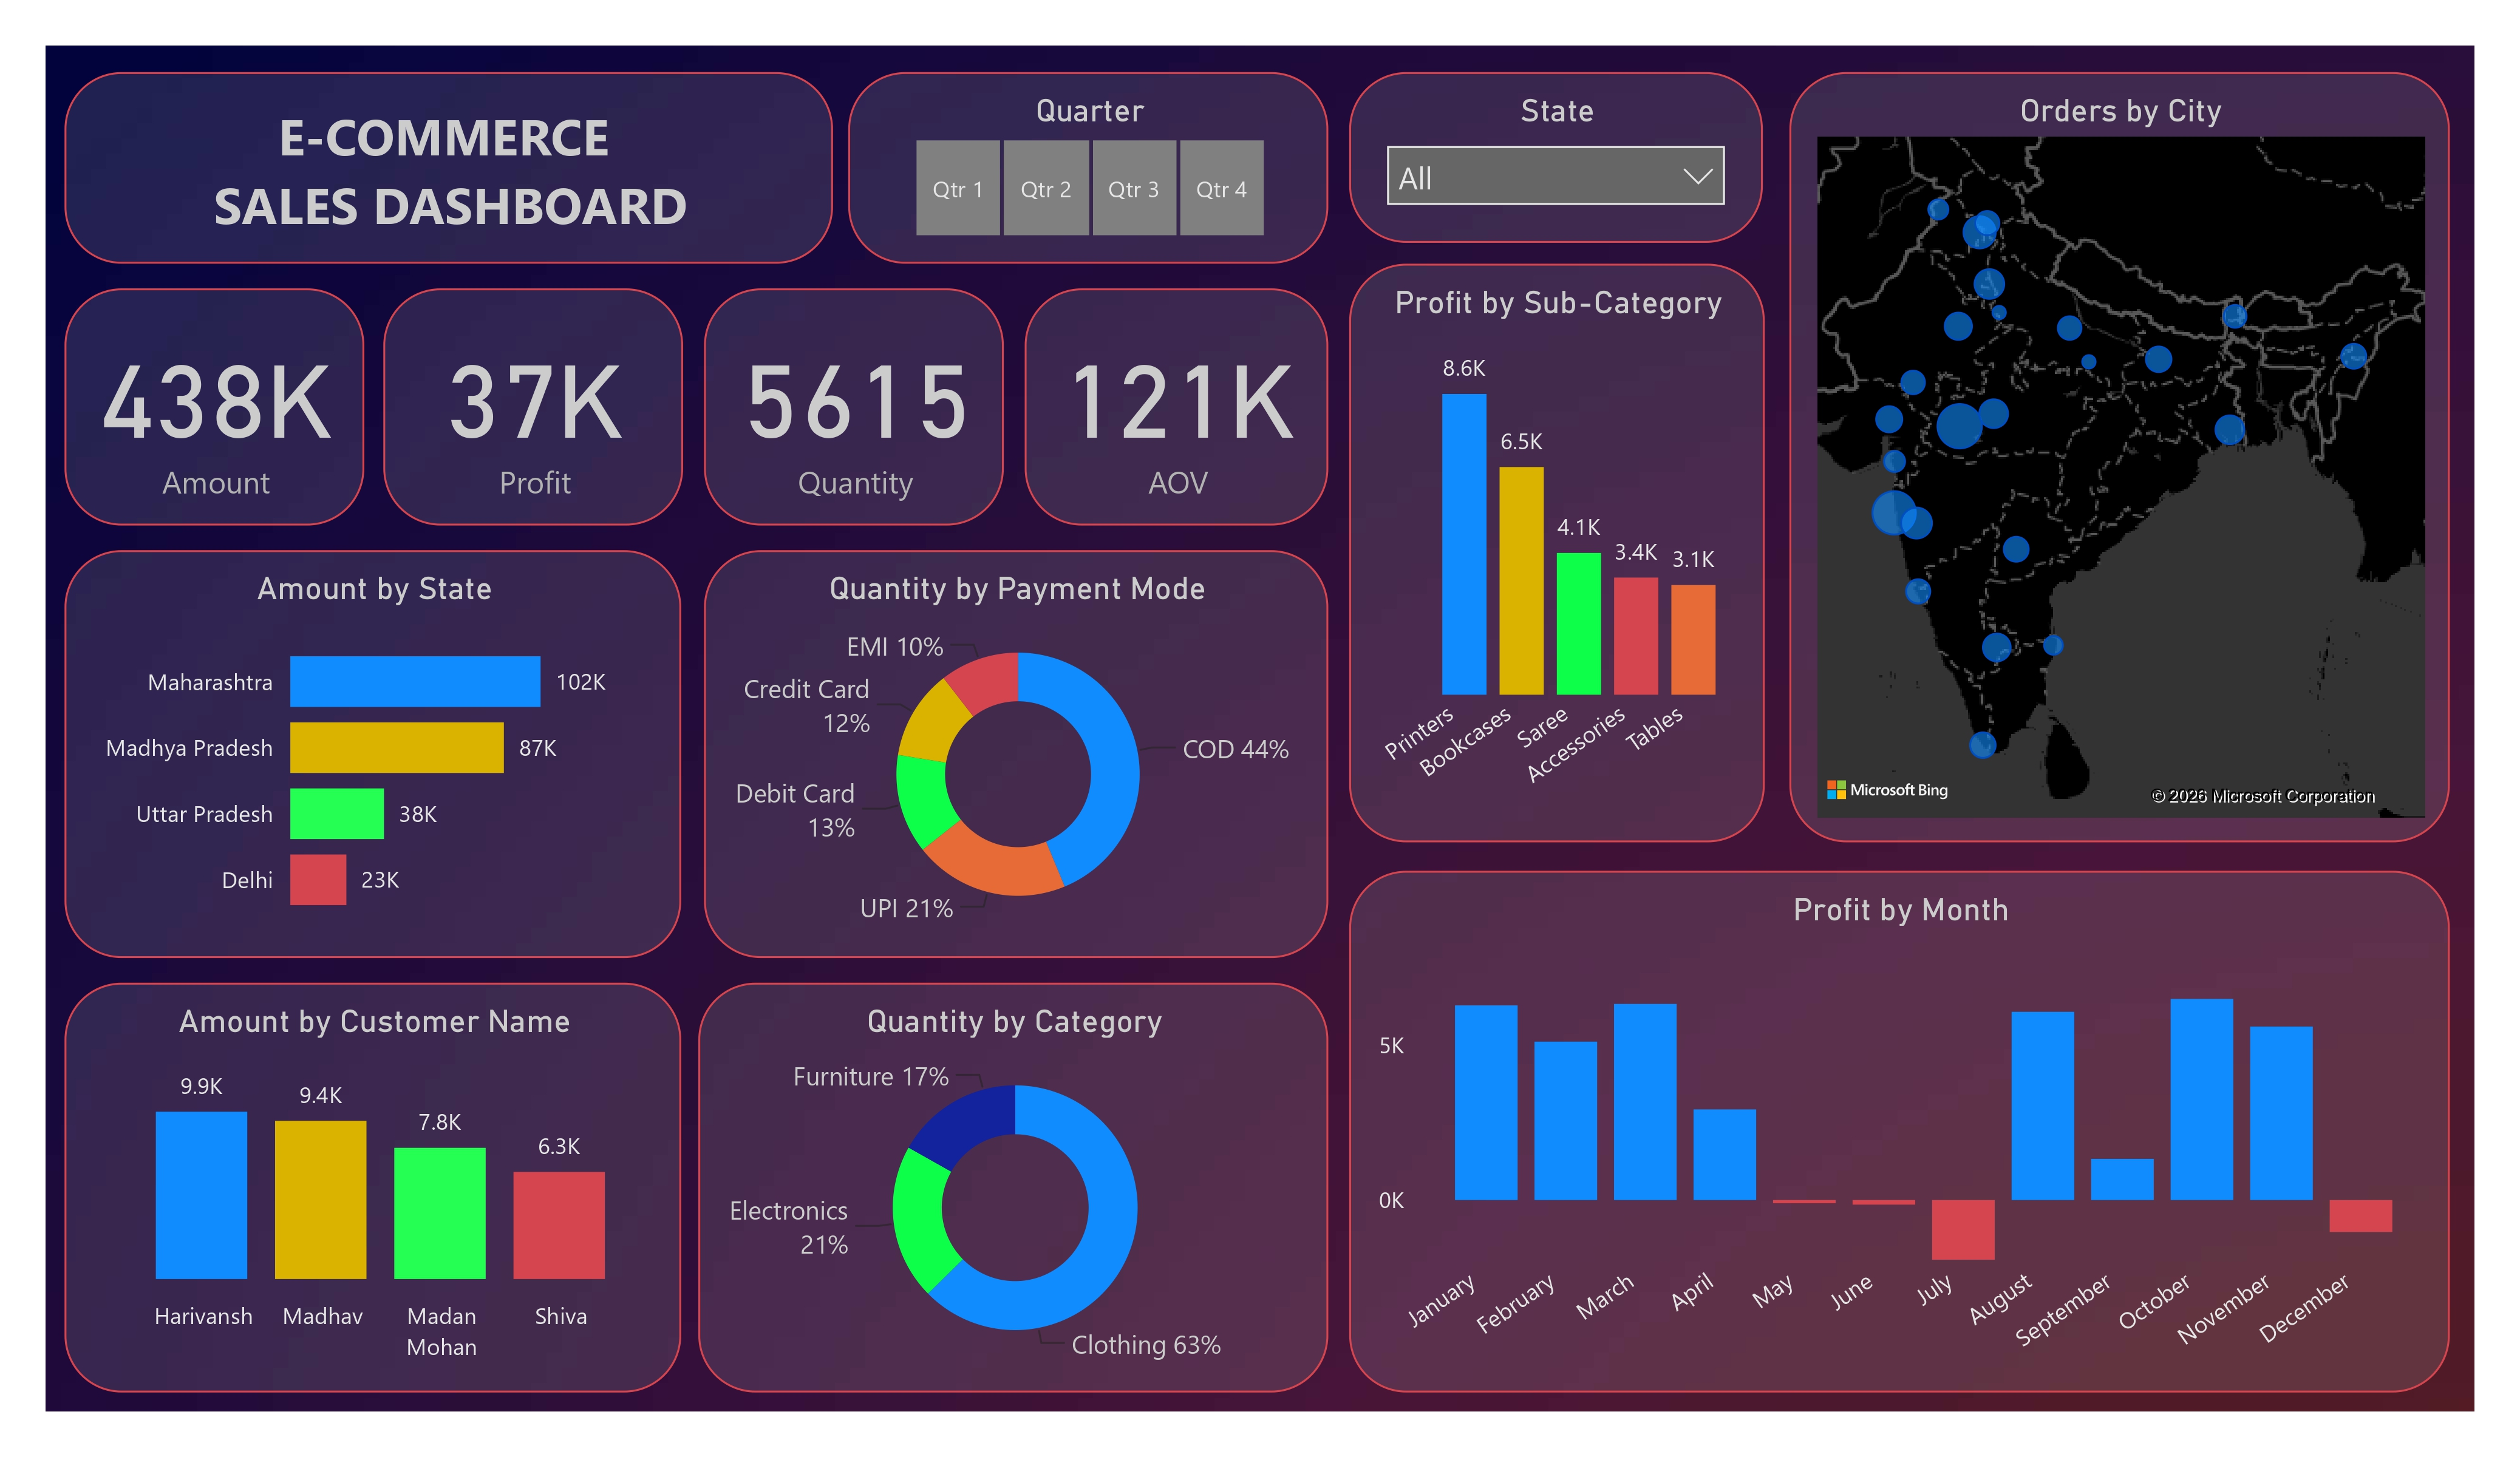

Layout of this report page (visuals, bound fields, positions):
{"tool":"powerbi","page":{"name":"Page 1","canvas":[1280,720],"ordinal":0},"visuals":[{"type":"textbox","box":[9.9,14.2,404.7,100.8],"z":0},{"type":"columnChart","fields":{"Y":["Sum(Details.Profit)"],"Category":["Orders.Order Date.Variation.Date Hierarchy.Month"]},"box":[687.3,434.6,579.4,275.5],"z":1000},{"type":"columnChart","fields":{"Category":["Details.Sub-Category"],"Y":["Sum(Details.Profit)"]},"box":[687.3,115,218.7,305.3],"z":2000},{"type":"donutChart","fields":{"Category":["Details.Category"],"Y":["Sum(Details.Quantity)"]},"box":[343.7,494.2,332.3,215.9],"z":3000},{"type":"donutChart","fields":{"Y":["Sum(Details.Quantity)"],"Category":["Details.PaymentMode"]},"box":[346.5,265.6,329.5,215.9],"z":4000},{"type":"card","fields":{"Values":["Sum(Details.Amount)"]},"box":[9.9,127.8,157.6,125],"z":5000},{"type":"card","fields":{"Values":["Sum(Details.Profit)"]},"box":[178.5,127.8,157.6,125],"z":6000},{"type":"card","fields":{"Values":["Sum(Details.Quantity)"]},"box":[347,127.8,157.6,125],"z":7000},{"type":"card","fields":{"Values":["Sum(Details.AOV)"]},"box":[515.5,127.8,160.5,125],"z":8000},{"type":"barChart","fields":{"Category":["Orders.State"],"Y":["Sum(Details.Amount)"]},"box":[9.9,265.6,325.2,215.9],"z":9000},{"type":"columnChart","fields":{"Category":["Orders.Customer Name"],"Y":["Sum(Details.Amount)"]},"box":[10,494.2,325,216],"z":10000},{"type":"slicer","title":"Quarter","fields":{"Values":["Orders.Order Date.Variation.Date Hierarchy.Quarter"]},"box":[423.2,14.2,252.8,100.8],"z":11000},{"type":"slicer","title":"State","fields":{"Values":["Orders.State"]},"box":[687.3,14.2,217.3,89.5],"z":12000},{"type":"map","title":"Orders by City","fields":{"Category":["Orders.City"],"Size":["CountNonNull(Orders.Order ID)"]},"box":[918.8,14.2,347.9,406.2],"z":13000}]}

Visuals, with their boxes in screenshot pixels (x1, y1, x2, y2):
textbox: 32:47:818:243
columnChart - Sum(Details.Profit) x Orders.Order Date.Variation.Date Hierarchy.Month: 1347:863:2473:1398
columnChart - Details.Sub-Category x Sum(Details.Profit): 1347:243:1772:835
donutChart - Details.Category x Sum(Details.Quantity): 681:979:1326:1398
donutChart - Sum(Details.Quantity) x Details.PaymentMode: 686:535:1326:954
card - Sum(Details.Amount): 32:268:338:511
card - Sum(Details.Profit): 359:268:666:511
card - Sum(Details.Quantity): 687:268:993:511
card - Sum(Details.AOV): 1014:268:1326:511
barChart - Orders.State x Sum(Details.Amount): 32:535:664:954
columnChart - Orders.Customer Name x Sum(Details.Amount): 33:979:664:1398
"Quarter" slicer: 835:47:1326:243
"State" slicer: 1347:47:1769:221
"Orders by City" map: 1797:47:2473:836
